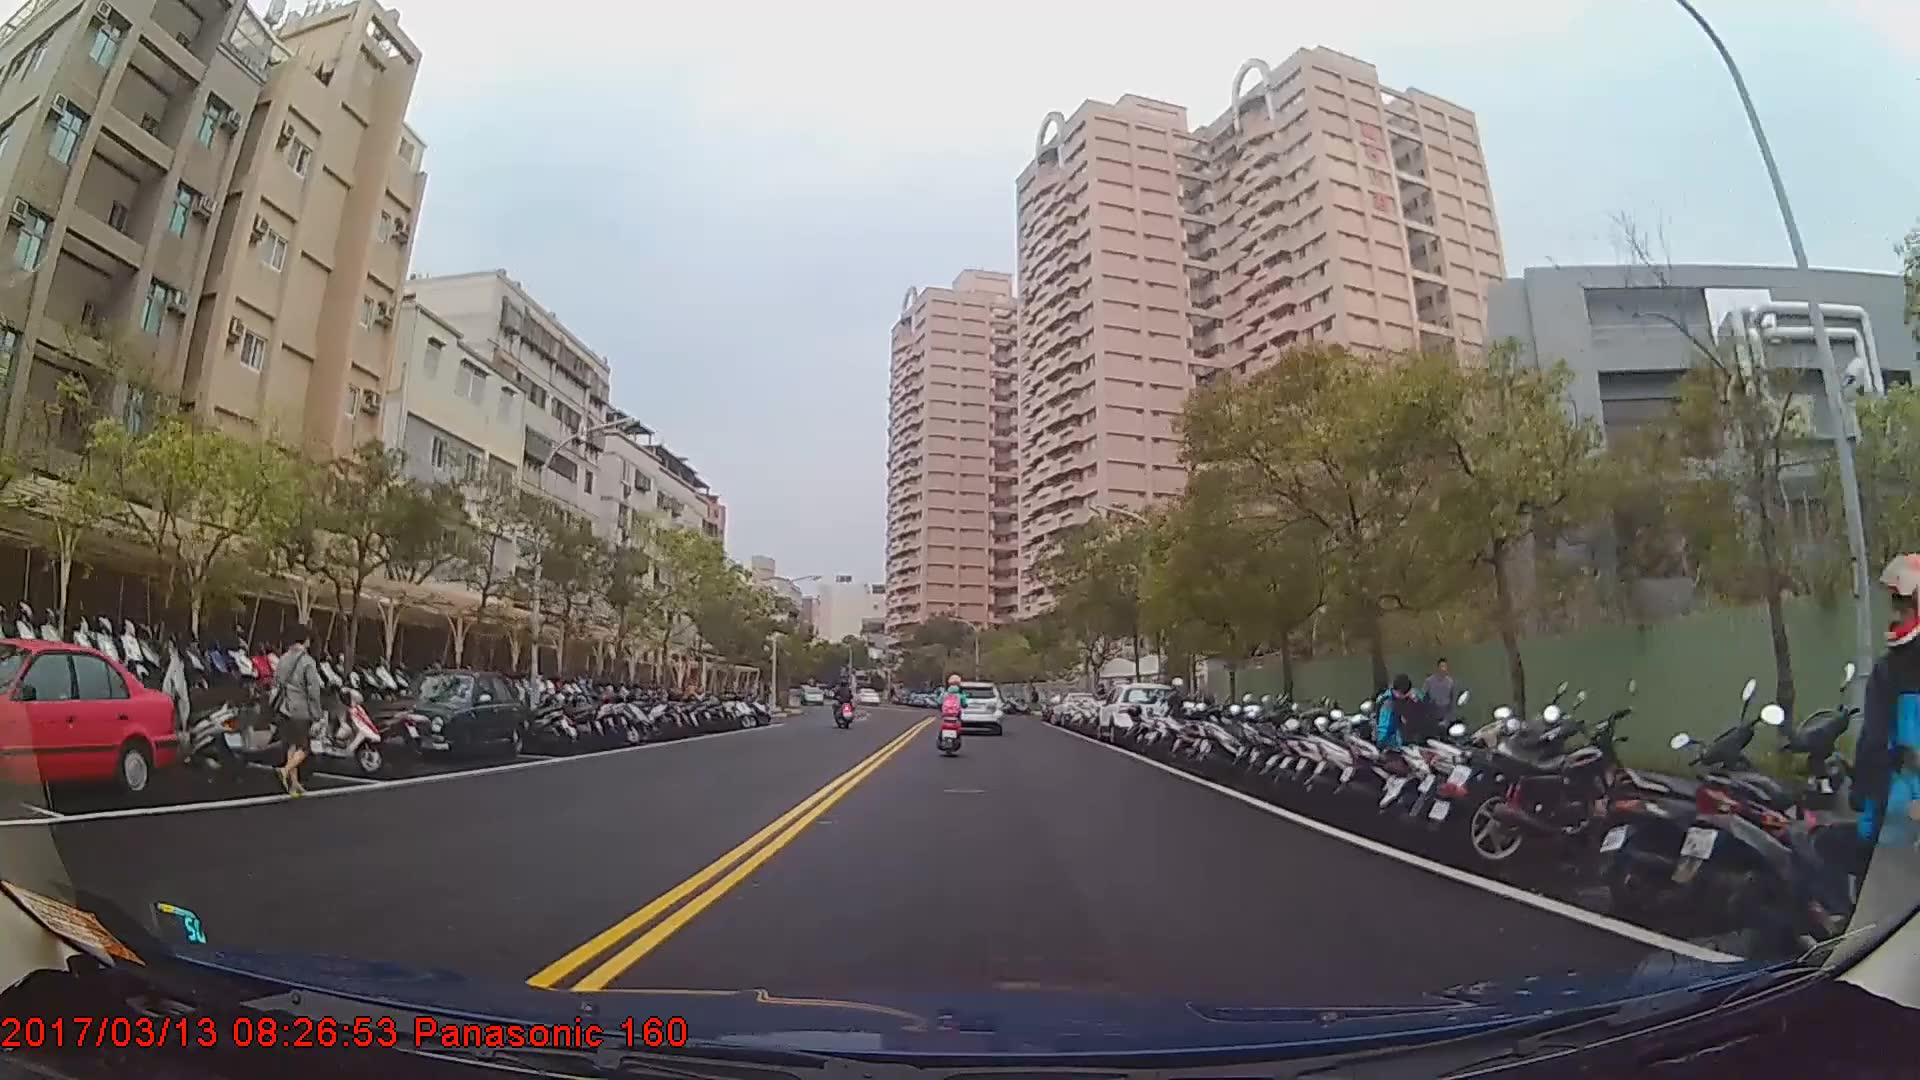pedestrian: (265, 623, 336, 802), (1379, 673, 1441, 812), (1419, 656, 1457, 761)
rider: (1821, 545, 1920, 1004), (937, 673, 970, 747), (833, 679, 856, 728)
vehicle: (0, 636, 176, 808), (369, 667, 520, 765), (1096, 681, 1182, 745), (946, 678, 1003, 730)
